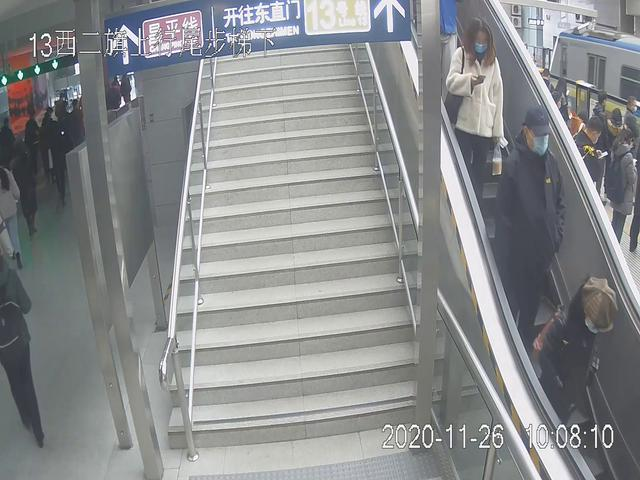person: (489, 105, 567, 367), (444, 18, 507, 231)
